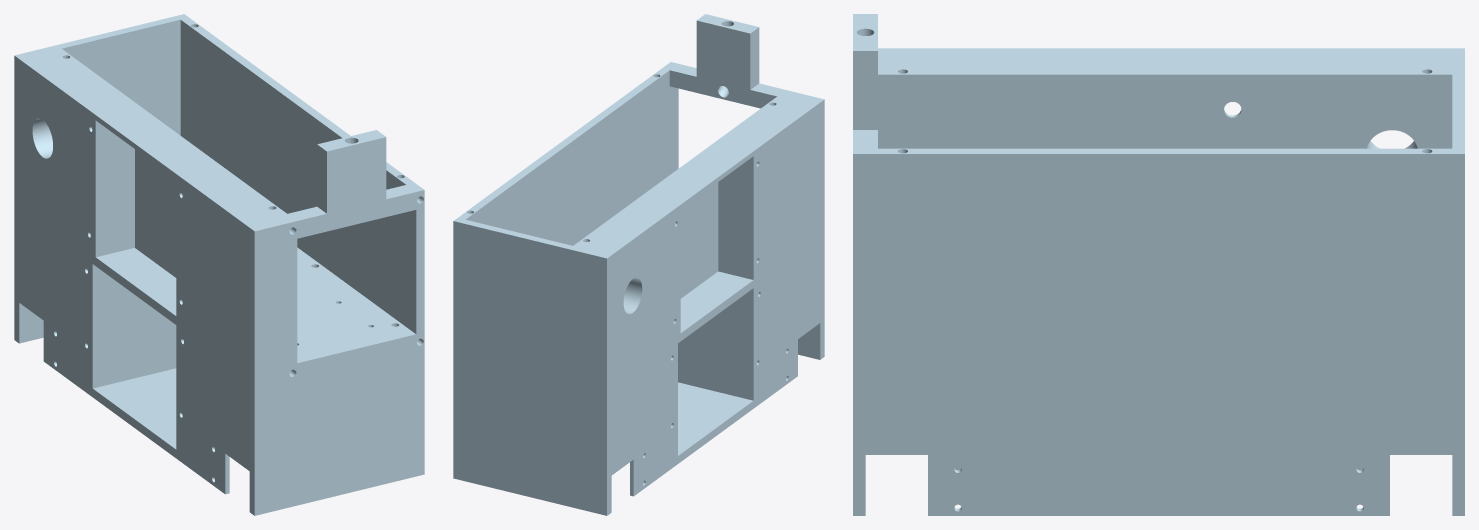
The model's file is robot iteration 10 chassis.glb.
The picture shows the model from 3 angles, left to right: view 1: azimuth 30°, elevation 25°; view 2: azimuth 150°, elevation 25°; view 3: azimuth 270°, elevation 25°; orthographic projection. The views are drawn at different scales.
Visible parts, largest first — view 1: mesh0_mesh_3, mesh0_mesh_135, mesh0_mesh_62, mesh0_mesh_148, mesh0_mesh_7, mesh0_mesh_61, mesh0_mesh_172, mesh0_mesh_37, mesh0_mesh_57, mesh0_mesh_8, mesh0_mesh_38, mesh0_mesh_29 (+3 smaller); view 2: mesh0_mesh_6, mesh0_mesh_3, mesh0_mesh_62, mesh0_mesh_148, mesh0_mesh_9, mesh0_mesh_64, mesh0_mesh_39, mesh0_mesh_57, mesh0_mesh_8, mesh0_mesh_38, mesh0_mesh_17, mesh0_mesh_65 (+2 smaller); view 3: mesh0_mesh_96, mesh0_mesh_60, mesh0_mesh_148, mesh0_mesh_66, mesh0_mesh_71.
Part boxes in pixels (box(x1,y1,x2,y2)): mesh0_mesh_3: box(14, 56, 254, 515); mesh0_mesh_135: box(254, 137, 424, 515); mesh0_mesh_62: box(180, 20, 416, 333); mesh0_mesh_148: box(14, 14, 423, 231); mesh0_mesh_7: box(92, 264, 176, 388); mesh0_mesh_61: box(62, 19, 180, 135); mesh0_mesh_172: box(297, 247, 415, 363); mesh0_mesh_37: box(95, 120, 134, 257); mesh0_mesh_57: box(135, 149, 176, 277); mesh0_mesh_8: box(93, 368, 176, 449); mesh0_mesh_38: box(96, 248, 176, 315); mesh0_mesh_29: box(19, 303, 43, 343); mesh0_mesh_6: box(453, 221, 606, 515); mesh0_mesh_3: box(607, 99, 824, 515); mesh0_mesh_62: box(466, 70, 678, 245); mesh0_mesh_148: box(454, 62, 823, 258); mesh0_mesh_9: box(678, 288, 753, 400); mesh0_mesh_64: box(669, 20, 776, 108); mesh0_mesh_39: box(718, 156, 753, 279); mesh0_mesh_57: box(680, 182, 718, 298); mesh0_mesh_8: box(678, 382, 752, 455); mesh0_mesh_38: box(680, 271, 752, 332); mesh0_mesh_17: box(798, 323, 820, 359); mesh0_mesh_65: box(750, 27, 759, 89); mesh0_mesh_96: box(853, 154, 1464, 515); mesh0_mesh_60: box(878, 74, 1452, 148); mesh0_mesh_148: box(853, 48, 1464, 153); mesh0_mesh_66: box(853, 51, 877, 129); mesh0_mesh_71: box(853, 14, 877, 50).
Bounding box in the file's own units: 0.1 × 0.195 × 0.245.
